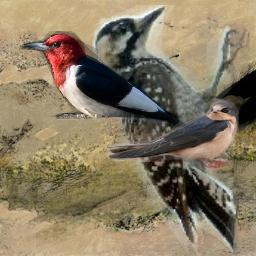Swallow: (106, 98, 239, 170)
Woodpecker: (91, 5, 250, 256), (18, 31, 195, 137)
